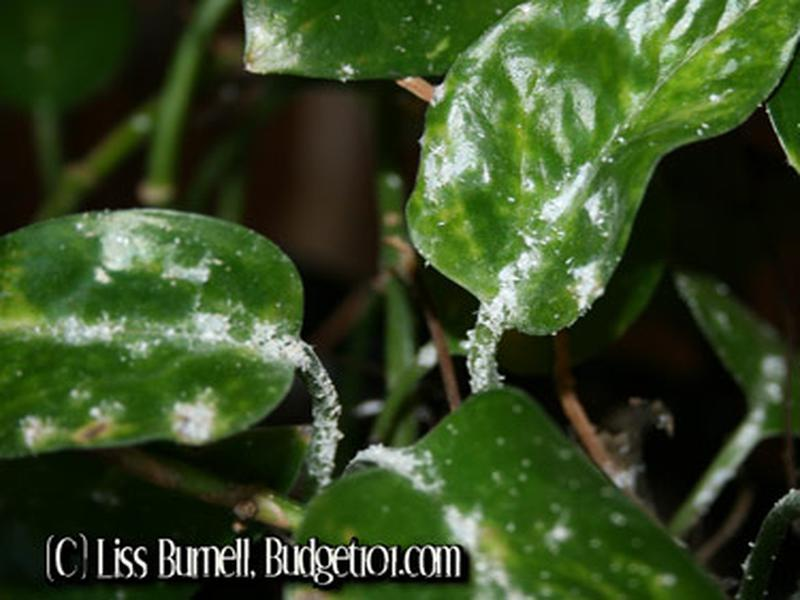Mealy_bug: (36, 210, 352, 474), (400, 57, 633, 343)
